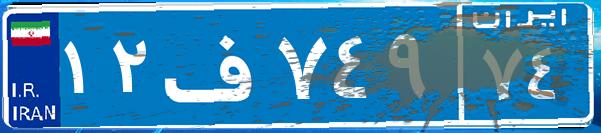1: (57, 26, 110, 107)
2: (110, 28, 158, 105)
4: (330, 28, 385, 110), (525, 38, 570, 115)
7: (273, 28, 330, 110), (475, 38, 525, 113)
9: (385, 28, 445, 110)
ف: (158, 15, 273, 115)
